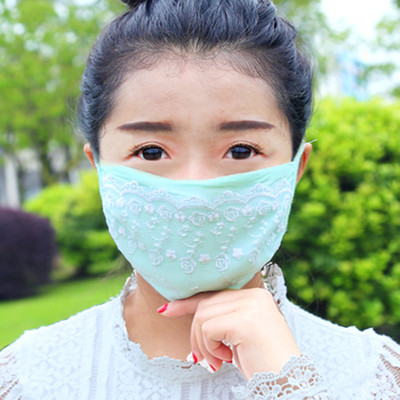face_mask: (100, 55, 292, 300)
